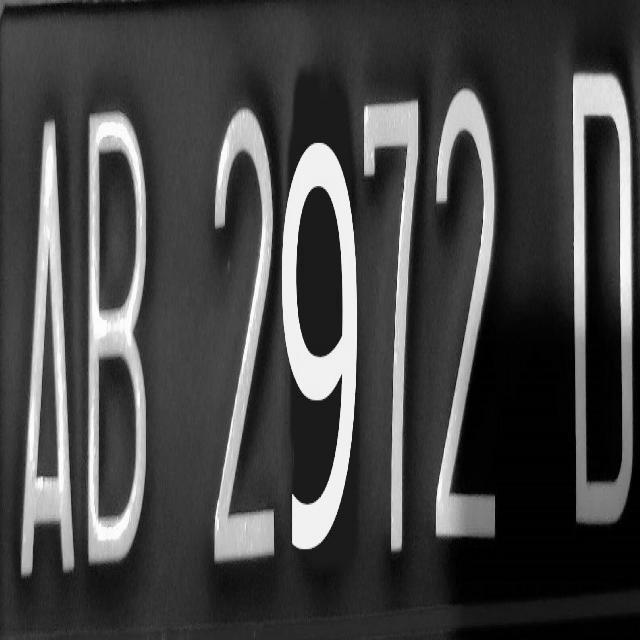2: (430, 76, 504, 554), (210, 103, 282, 561)
7: (358, 91, 416, 578)
9: (288, 128, 357, 553)
A: (9, 113, 83, 572)
B: (72, 104, 167, 566)
D: (558, 58, 640, 531)
